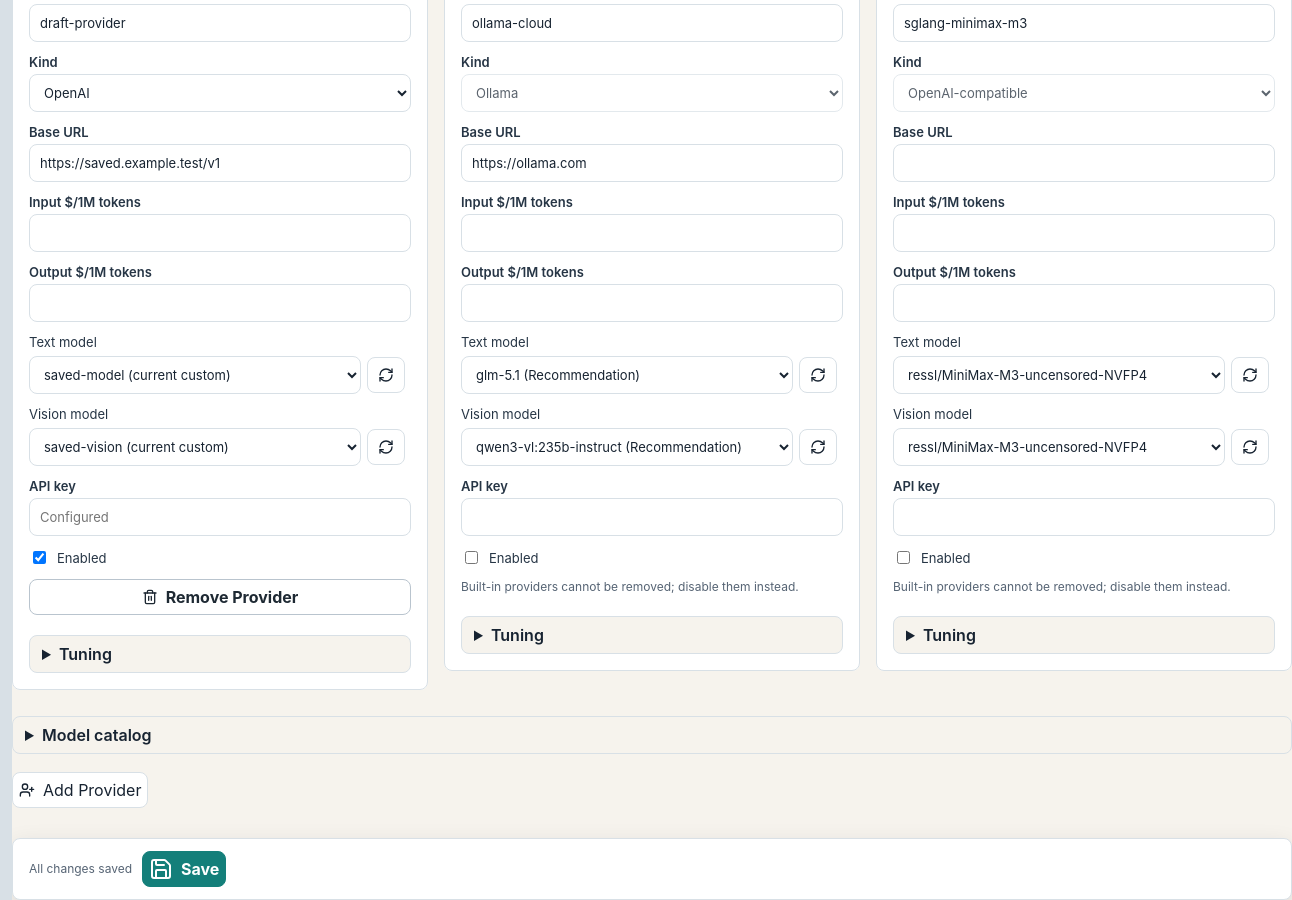
Test: <SettingsPage> provider draft test › renders the disabled SGLang MiniMax M3 preset and blocks enabling it without a URL
(page scrolled)
Check: the field labelled "Name" below "sglang-minimax-m3" is disabled, box [893,4,1275,42]
Check: the dropdown labelled "Kind" below "sglang-minimax-m3" is disabled, box [893,74,1275,112]
What coordinates should you click on to do the following:
click the 3rd checkbox labelled "Enabled"
I would click on:
 (904, 558)
Its box is [897,551,910,564].
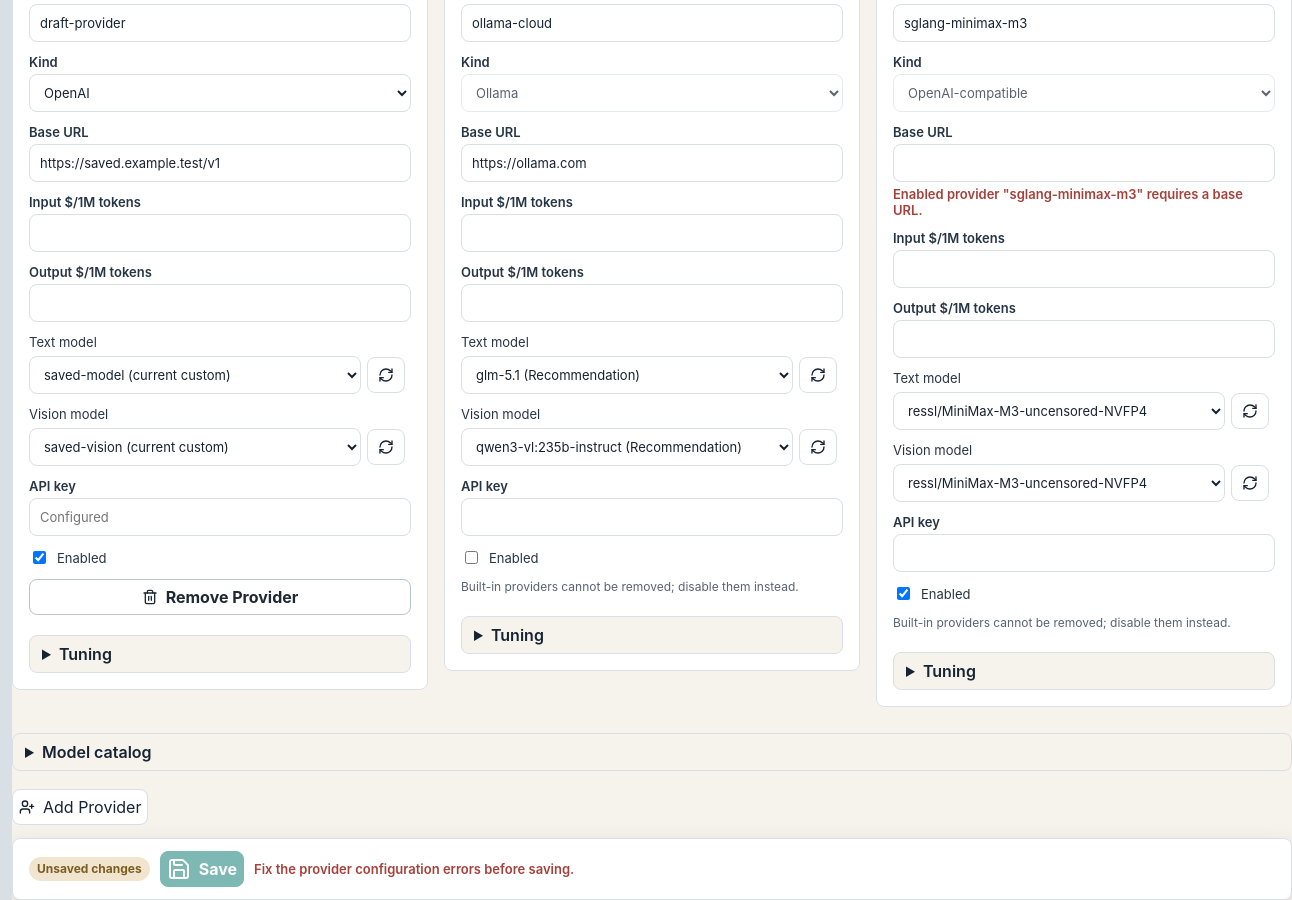
Check: the text "Enabled provider \"sglang-minimax-m3\" requires a base URL." is shown, box [893,186,1275,218]
Check: the button "Save" is disabled, box [160,851,244,887]
